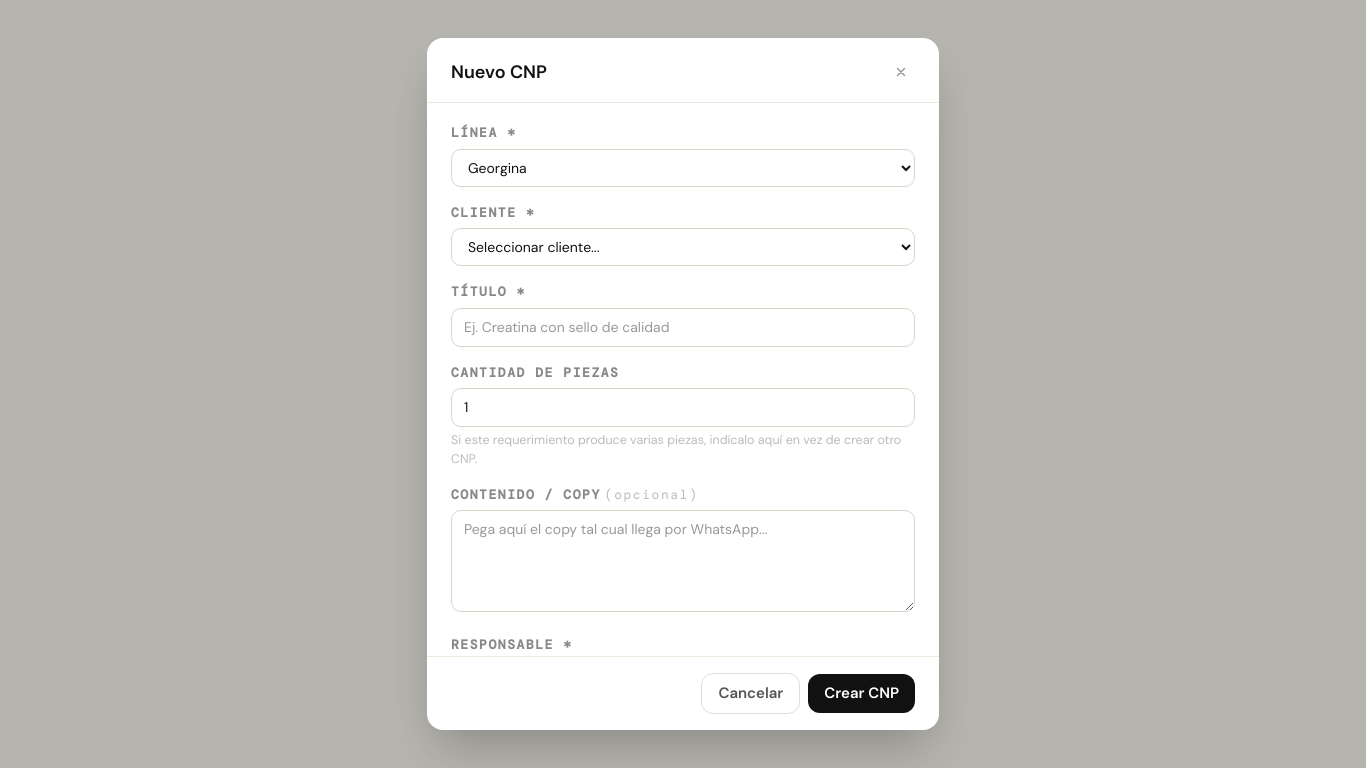
it: CnpModal — cantidad de piezas (crear) › generar cantidad 3 crea 3 filas con el título + número como default
The width and height of the screenshot is (1366, 768).
Type "Historias parada Energon" into the field with placeholder "Ej. Creatina con sello de calidad". click: (683, 327)
box: [451,308,915,347]
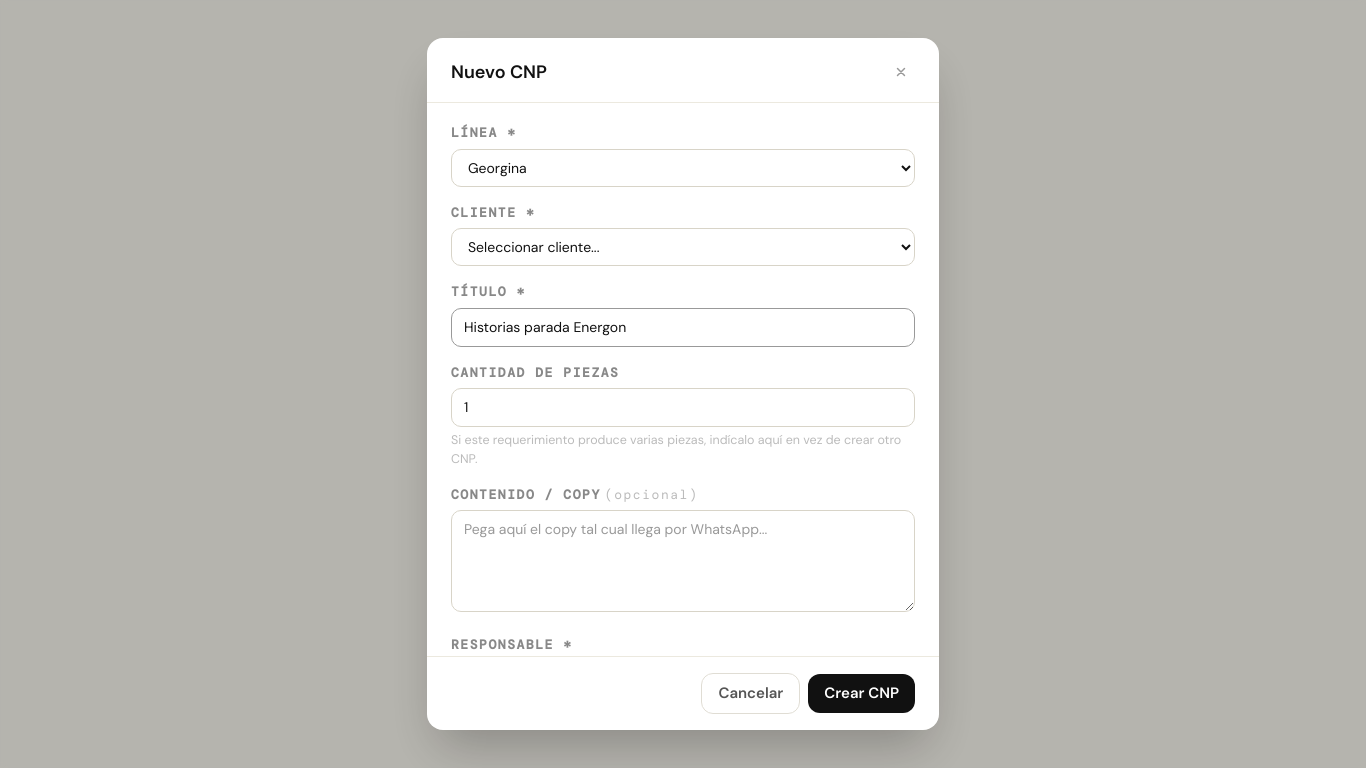
Replace the text in the number field with "3". click: (683, 408)
box: [451,388,915,427]
(page scrolled)
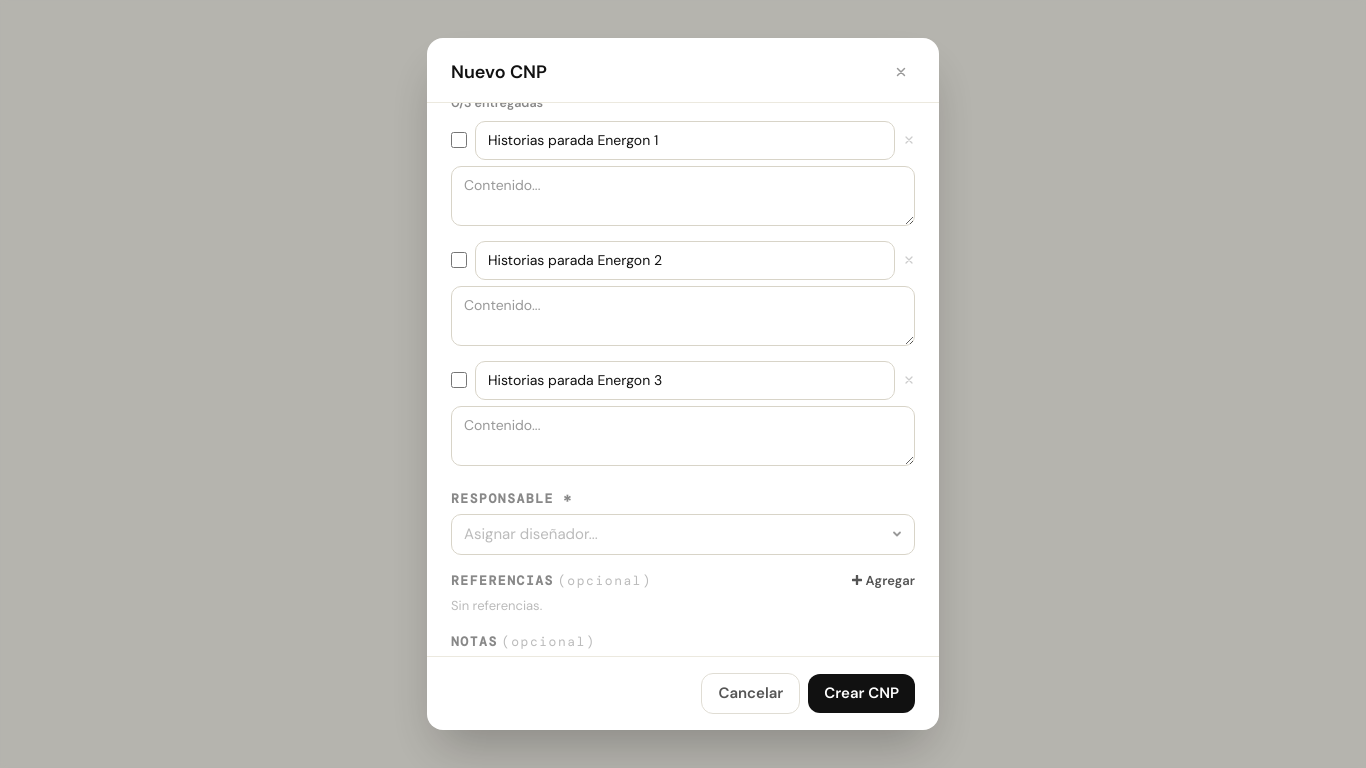
expect the 1st field showing "Historias parada Energon 1" is shown: met, box [475,121,895,160]
expect the 2nd field showing "Historias parada Energon 2" is shown: met, box [475,241,895,280]
expect the 3rd field showing "Historias parada Energon 3" is shown: met, box [475,361,895,400]
